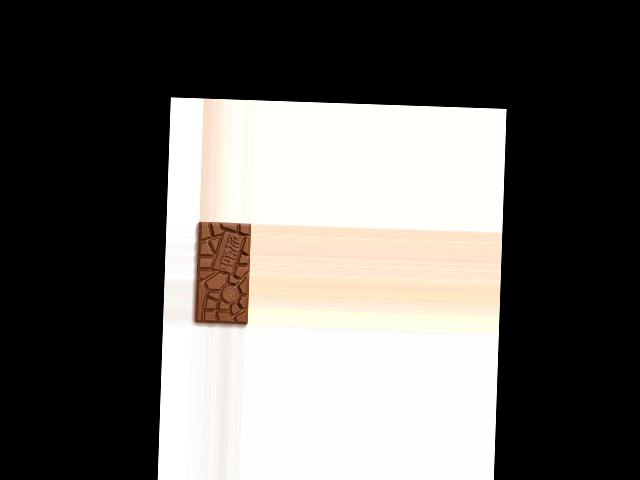chocolate: (192, 220, 250, 325)
